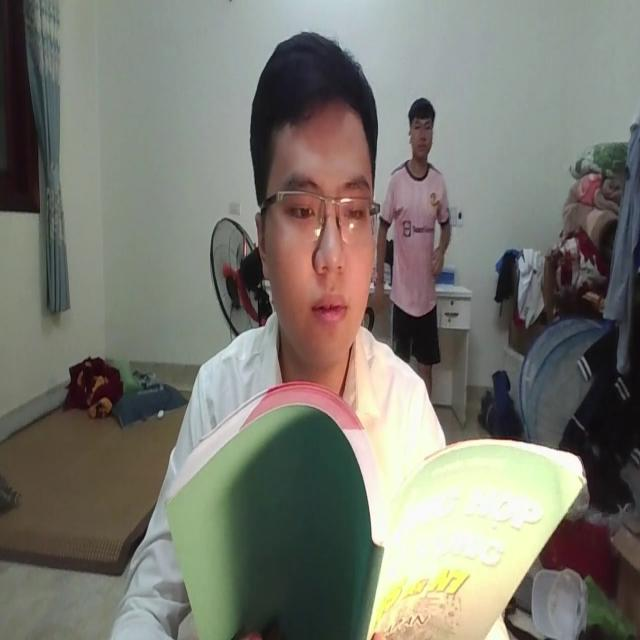book: (159, 369, 585, 640)
extra_person: (373, 95, 454, 388)
student: (91, 32, 454, 640)
